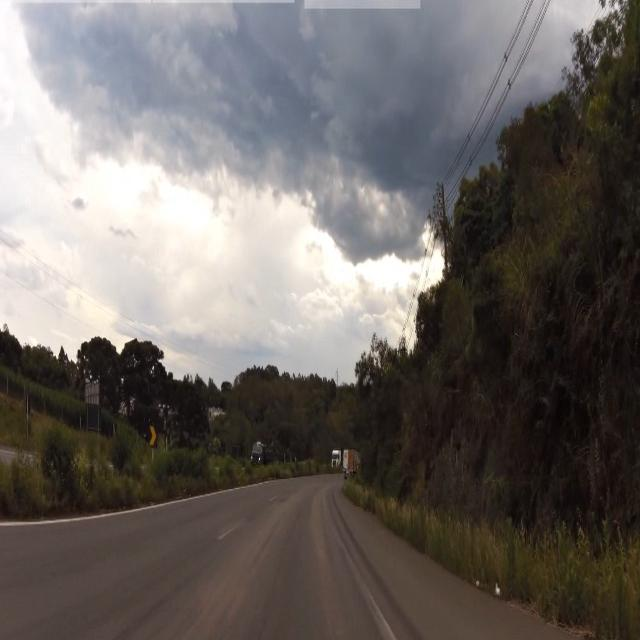Del: (149, 425, 158, 446)
